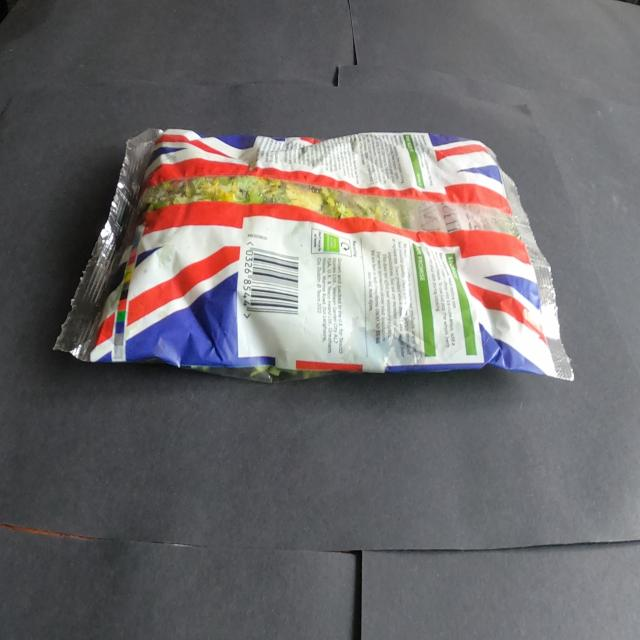Cilantro: (41, 100, 592, 404)
